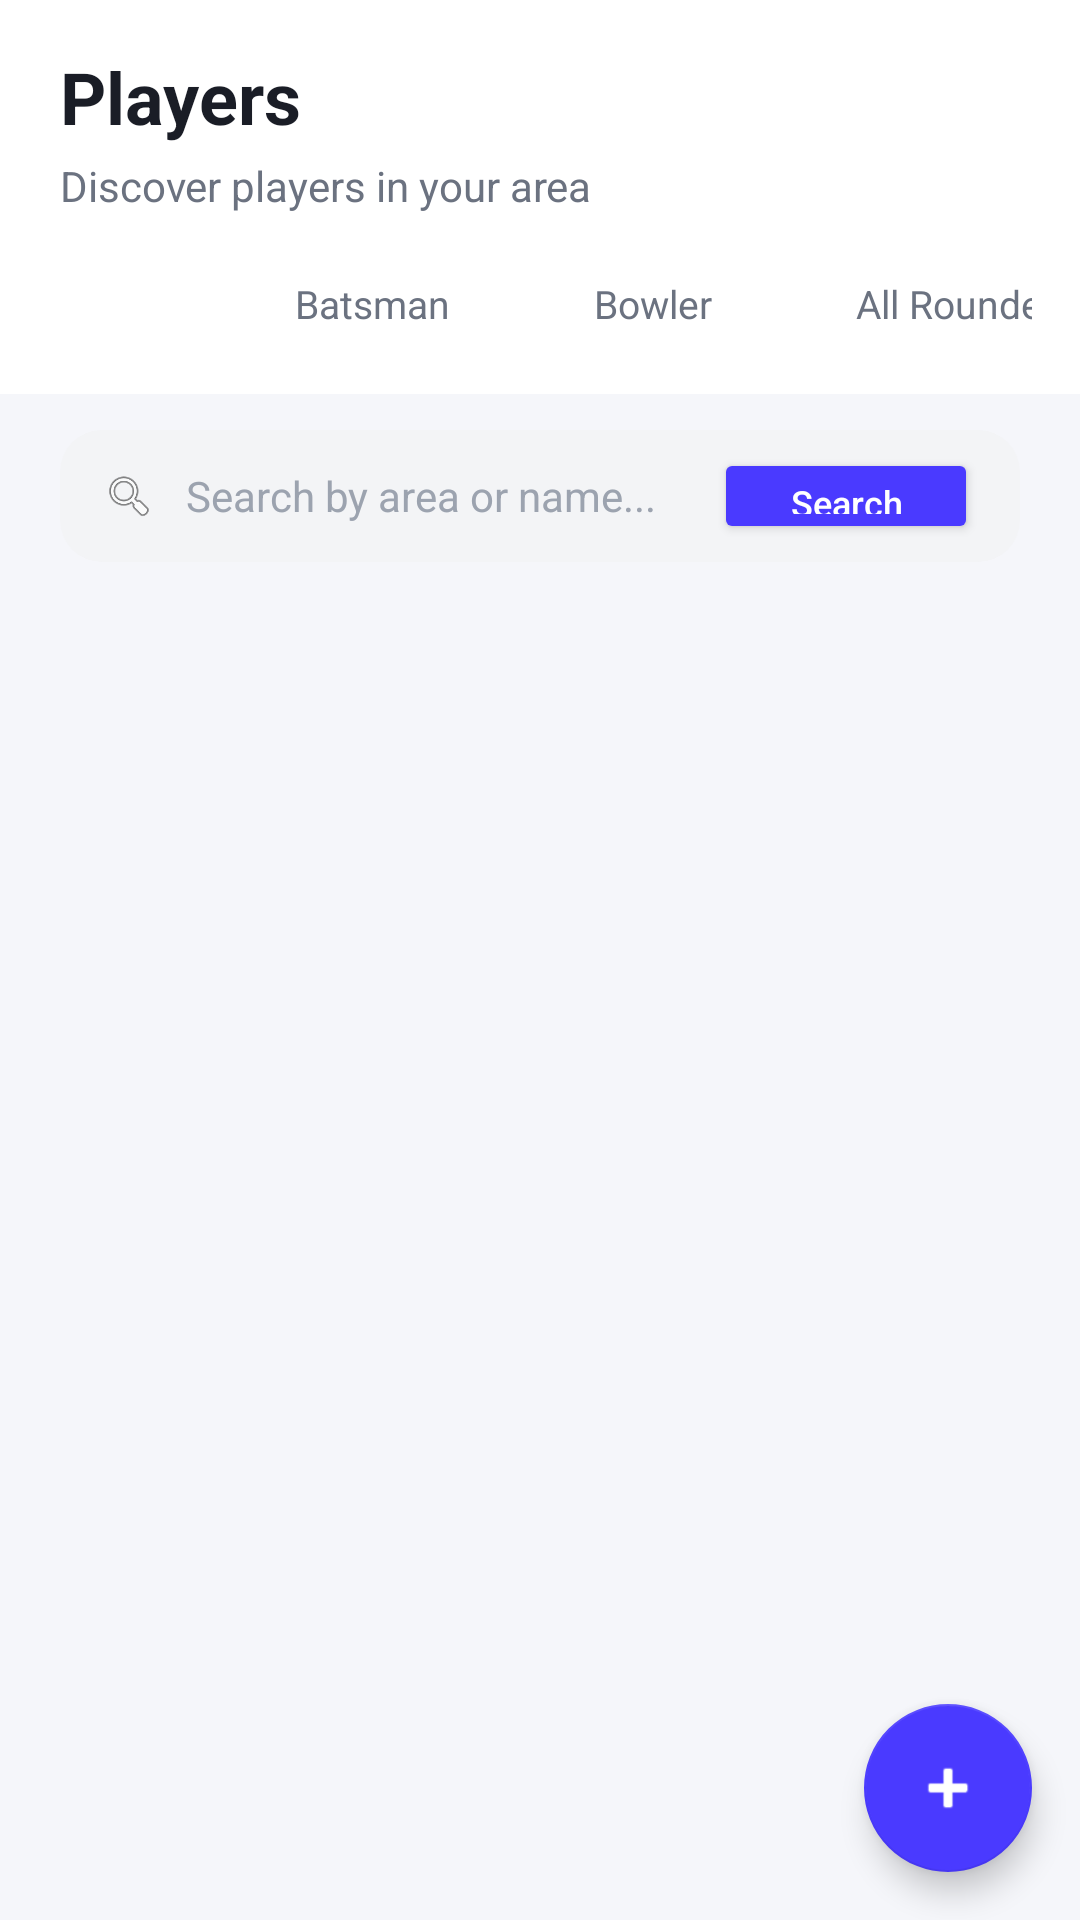

Icons on this 1080px×1920px Android screen, each with its box as (x1, y1, x2, y2):
Add Player: (864, 1704, 1032, 1872)
